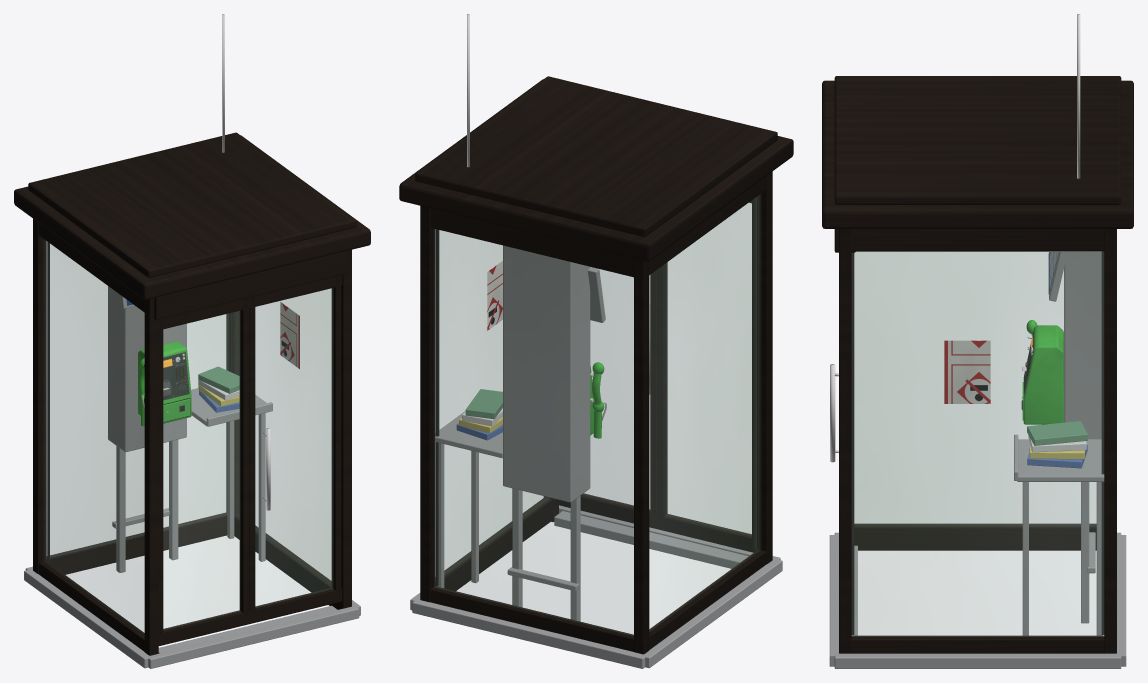
Rendered from phonebooth.glb.
3 views of the same model, side by side, from view 1: azimuth 30°, elevation 25°; view 2: azimuth 150°, elevation 25°; view 3: azimuth 270°, elevation 25° (orthographic). The views are drawn at different scales.
Visible parts, largest first — view 1: Door, Booth_Glass, Booth_Frame, Booth_Roof, Booth_Interior, Phone_Body, Phone_Panel; view 2: Booth_Glass, Booth_Frame, Booth_Roof, Door, Booth_Interior, Phone_Handset; view 3: Booth_Glass, Booth_Roof, Booth_Frame, Booth_Interior, Phone_Body, Door.
Part boxes in pixels (<box>): Door: <box>158,275,342,645</box>; Booth_Glass: <box>45,240,330,633</box>; Booth_Frame: <box>24,219,360,668</box>; Booth_Roof: <box>14,14,370,299</box>; Booth_Interior: <box>108,286,299,572</box>; Phone_Body: <box>138,341,191,423</box>; Phone_Panel: <box>163,352,189,400</box>; Booth_Glass: <box>434,195,759,635</box>; Booth_Frame: <box>410,171,782,668</box>; Booth_Roof: <box>399,14,793,260</box>; Door: <box>554,196,757,552</box>; Booth_Interior: <box>435,245,605,621</box>; Phone_Handset: <box>590,362,604,438</box>; Booth_Glass: <box>852,251,1103,636</box>; Booth_Roof: <box>822,14,1133,228</box>; Booth_Frame: <box>829,229,1126,668</box>; Booth_Interior: <box>944,252,1104,635</box>; Phone_Body: <box>1022,325,1063,424</box>; Door: <box>830,364,838,462</box>.
Bounding box in the file's own units: 1.47 × 3.3 × 1.47.
Materials: 21 (7 with a texture image).
